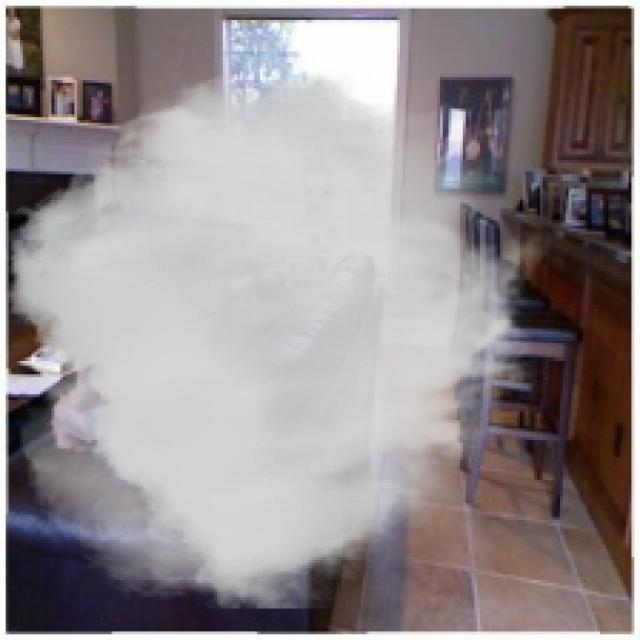Smoke: (9, 66, 552, 608)
